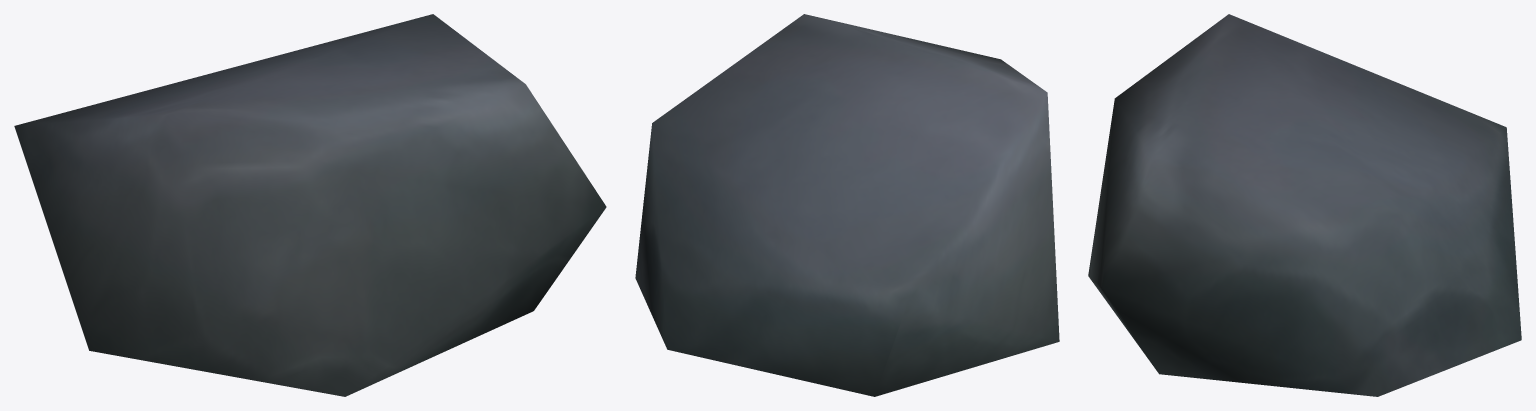
File: TwistedJungle_Stone06.FBX
3 views of the same model, side by side, from view 1: azimuth 30°, elevation 25°; view 2: azimuth 150°, elevation 25°; view 3: azimuth 270°, elevation 25° (orthographic). The views are drawn at different scales.
Parts seen in each view (by area): view 1: TwistedJungle_Stone06; view 2: TwistedJungle_Stone06; view 3: TwistedJungle_Stone06.
Part boxes in pixels (left/top/right/bottom): TwistedJungle_Stone06: left=14, top=14, right=606, bottom=396; TwistedJungle_Stone06: left=635, top=14, right=1059, bottom=396; TwistedJungle_Stone06: left=1088, top=14, right=1521, bottom=396.
Bounding box in the file's own units: 31.98 × 17.87 × 31.38.
